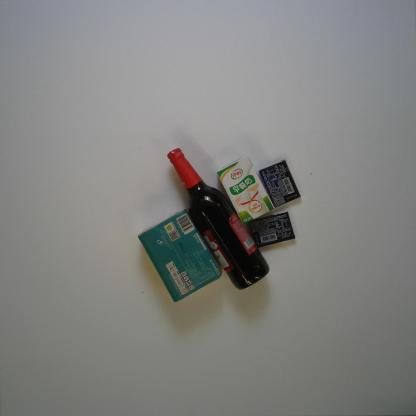Alcohol: (167, 147, 271, 292)
Gum: (258, 158, 302, 208), (248, 210, 296, 250)
Milk: (216, 155, 276, 225)
Tissue: (137, 207, 223, 303)
